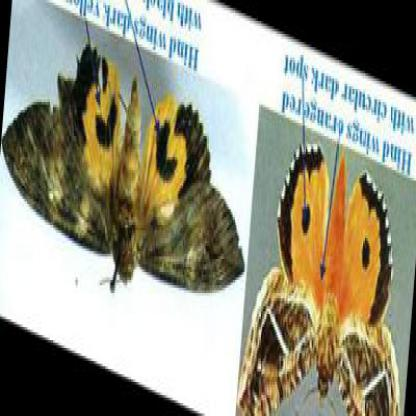fruit sucking moth: (1, 47, 244, 293), (238, 141, 398, 413)
